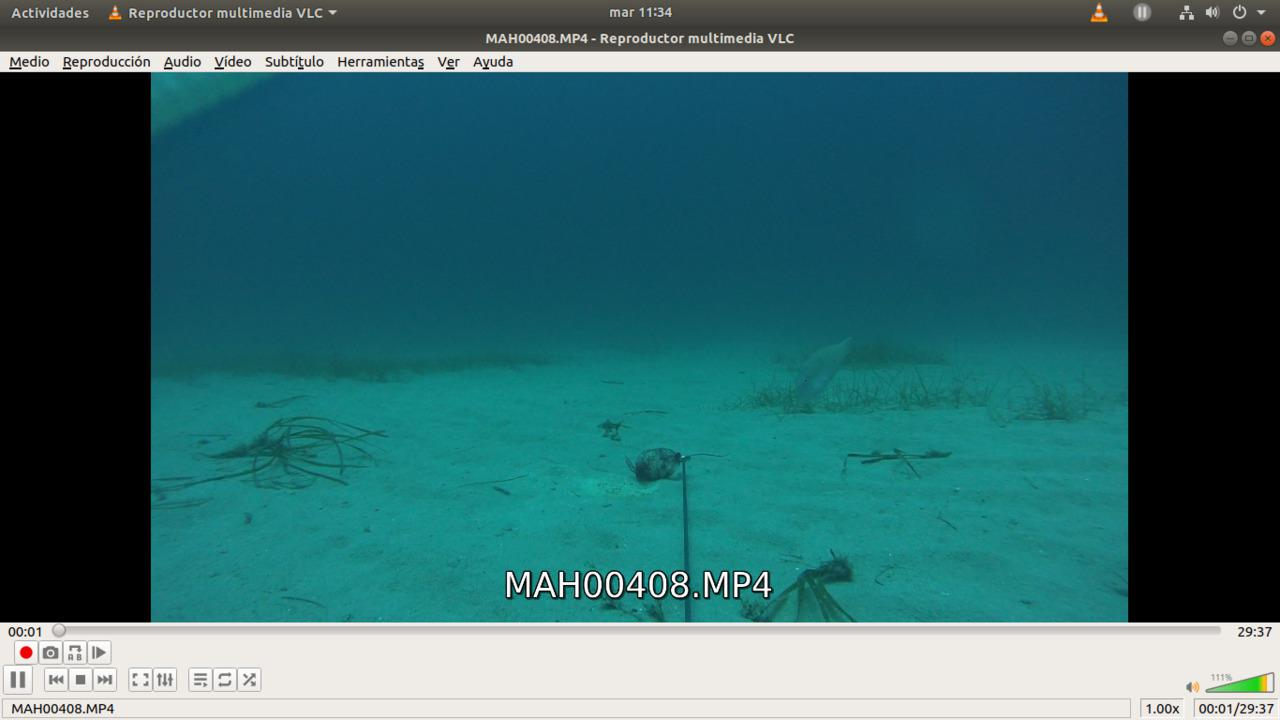raor: (795, 334, 858, 408)
